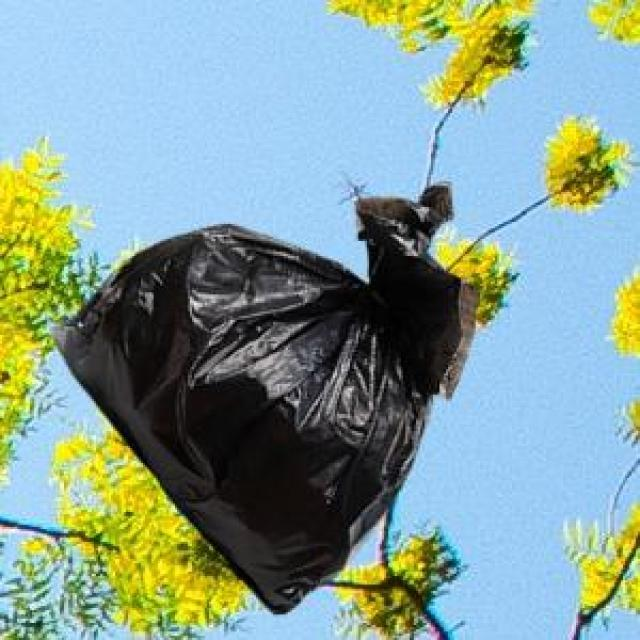Trashbag: (48, 175, 481, 619)
